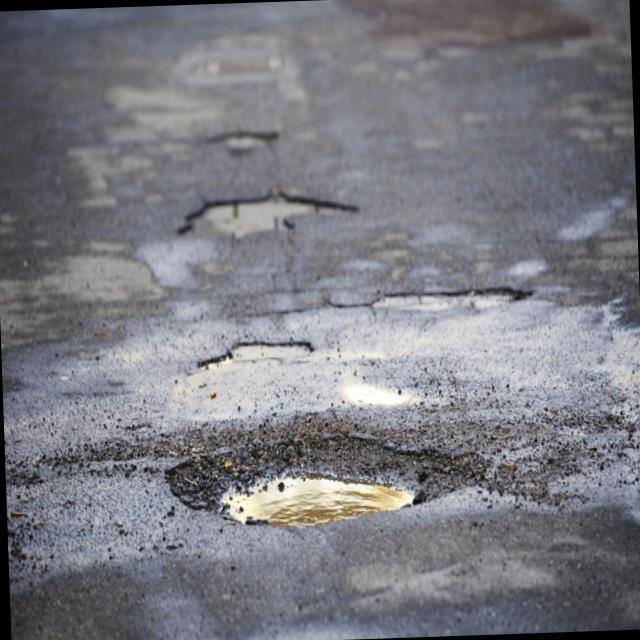Pothole: (153, 424, 454, 532), (167, 176, 378, 251), (327, 271, 551, 325), (173, 324, 318, 370), (192, 121, 300, 158)
